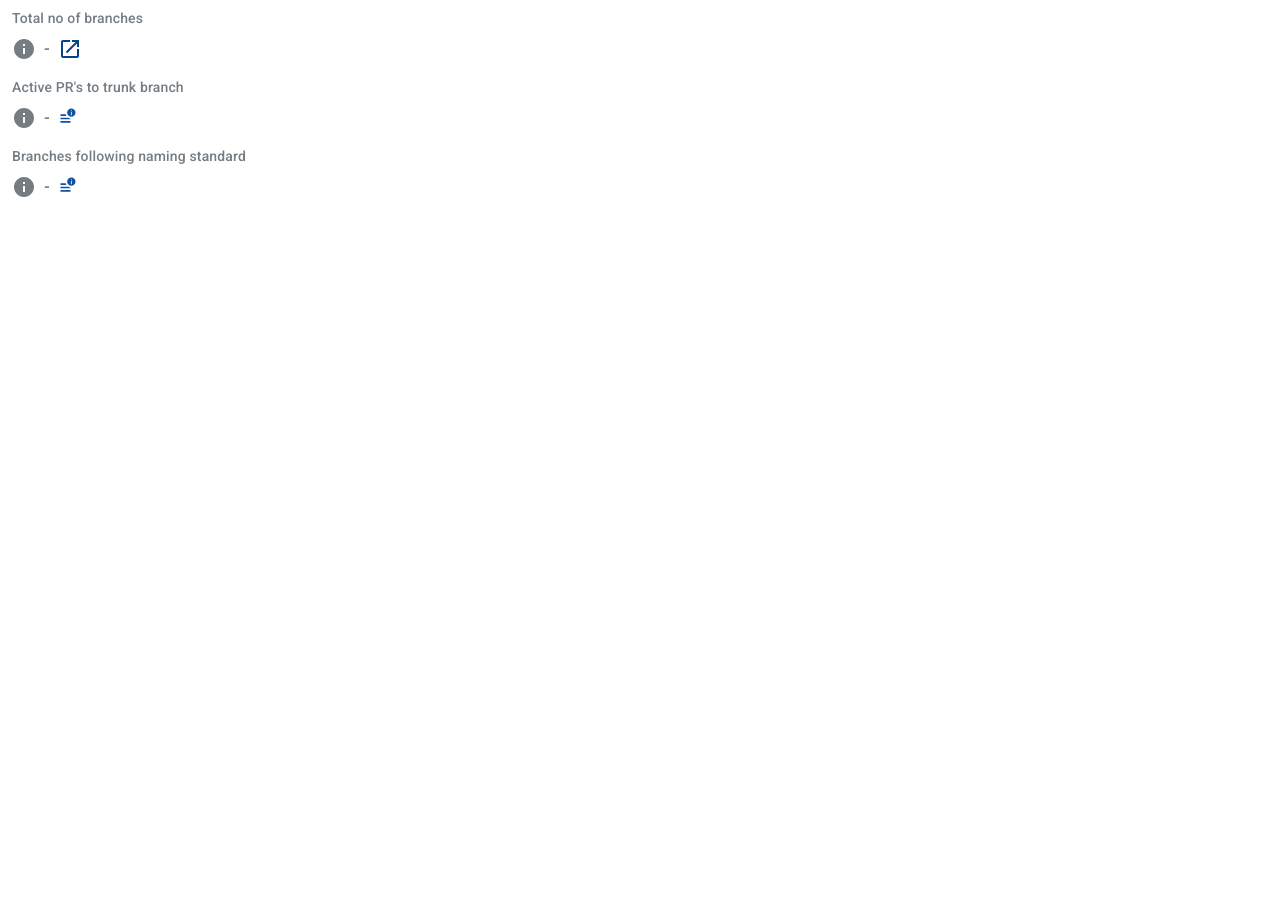
Test: TrunkBasedMetricsTiles component › should open active branches dialog upon clicking on active PR's button
The width and height of the screenshot is (1280, 900).
expect the text "total count : 2" is not shown: met
Note: user clicks on the button to open the dialog
Click the picture with test id "active-branches-button": (68, 116) x1=58 y1=106 x2=78 y2=126
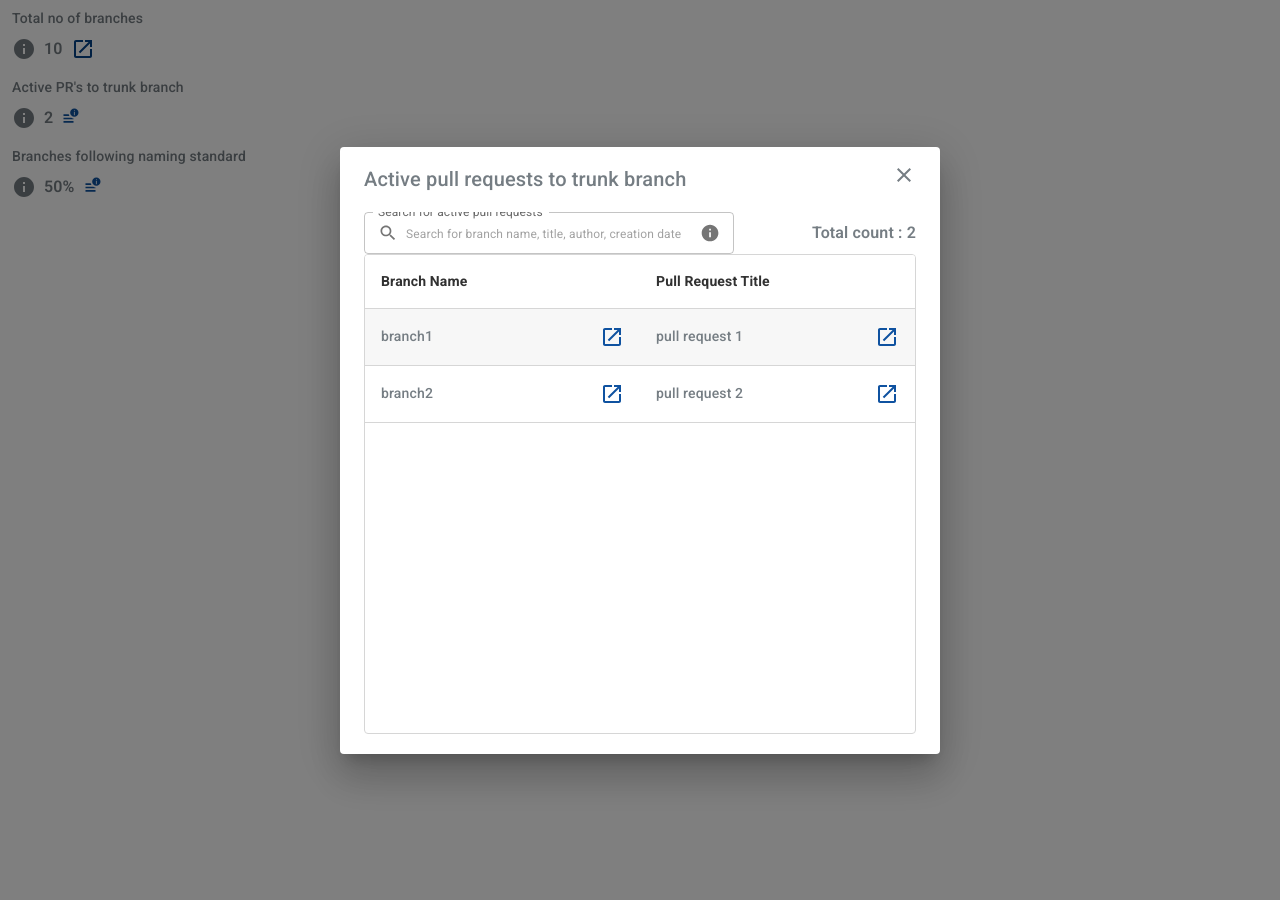
expect the text "Total count : 2" is shown: met, box x1=812 y1=220 x2=916 y2=244
